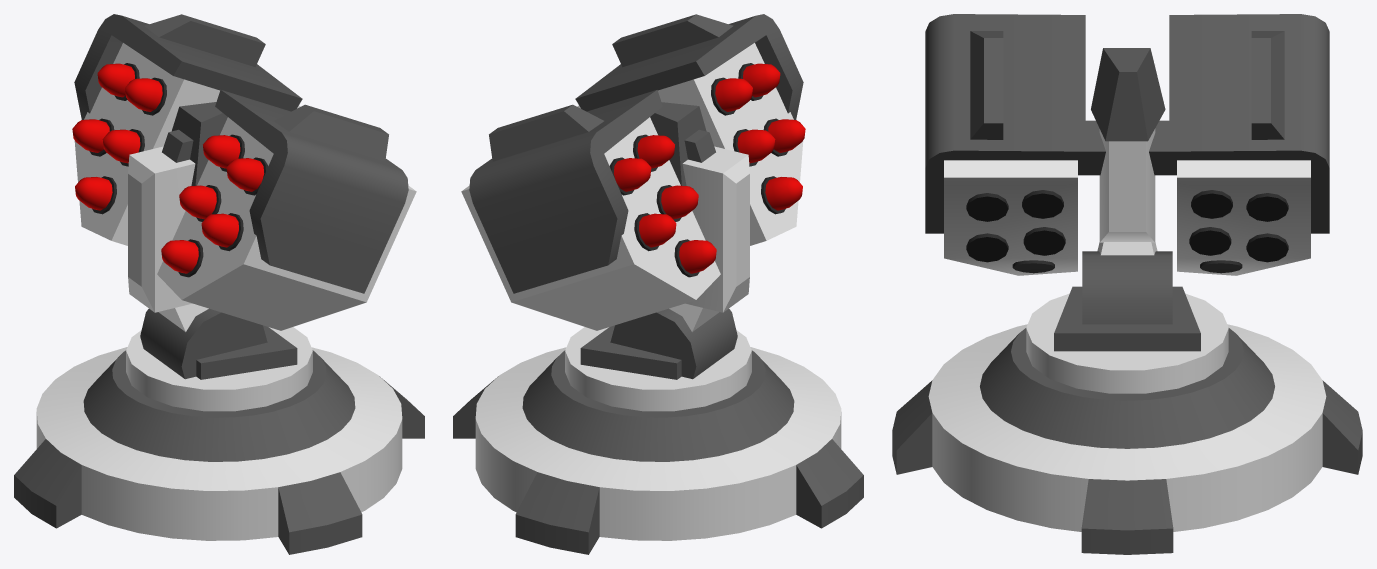
Rendered from Missile Gun.fbx.
The picture shows the model from 3 angles, left to right: view 1: azimuth 30°, elevation 25°; view 2: azimuth 150°, elevation 25°; view 3: azimuth 270°, elevation 25°; orthographic projection. The views are drawn at different scales.
Parts seen in each view (by area): view 1: Missile Turret Head, Turret Base; view 2: Missile Turret Head, Turret Base; view 3: Missile Turret Head, Turret Base.
Boxes of the visible parts, x1,y1,x2,y2 form: Missile Turret Head: (72,14,416,411); Turret Base: (14,347,424,554); Missile Turret Head: (461,14,805,411); Turret Base: (453,347,863,554); Missile Turret Head: (925,14,1329,393); Turret Base: (892,324,1362,554).
Size of the model in its own units: 237 by 240 by 237.
